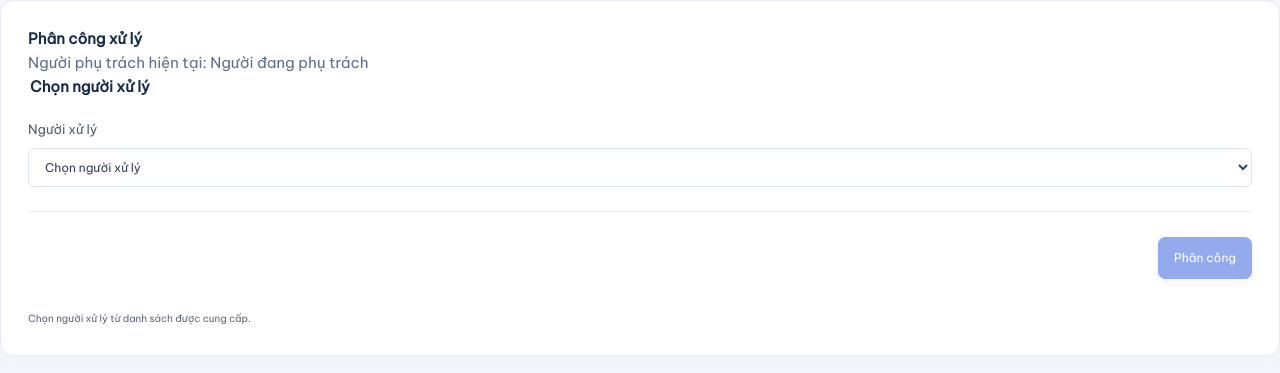
Scenario: APP-11 assignment selection and single write › blocks duplicate submit while pending and never replaces authoritative assignee on success
Later steps or results of the test are not shown.
Select "Nguyễn An" in the dropdown: [640, 168] box [28,148,1252,187]
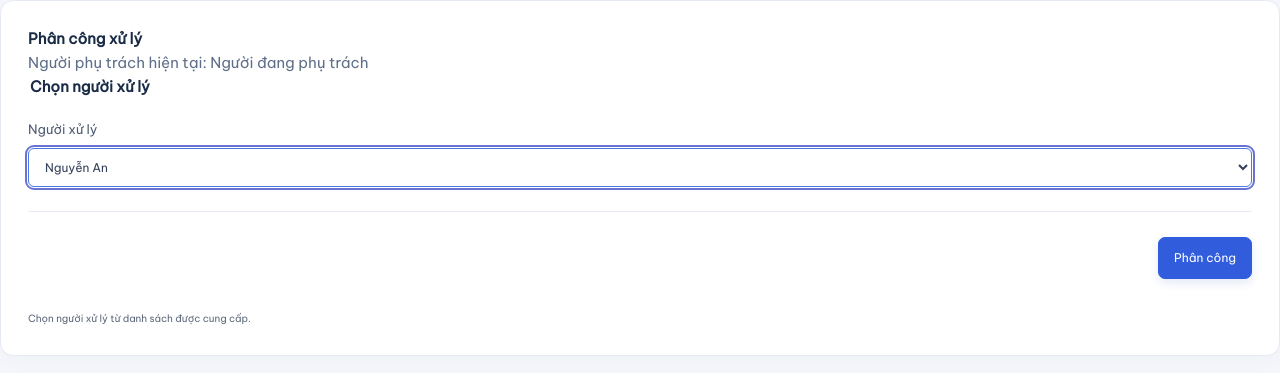
Double-click the button "Phân công": [1205, 258] box [1158,237,1252,279]
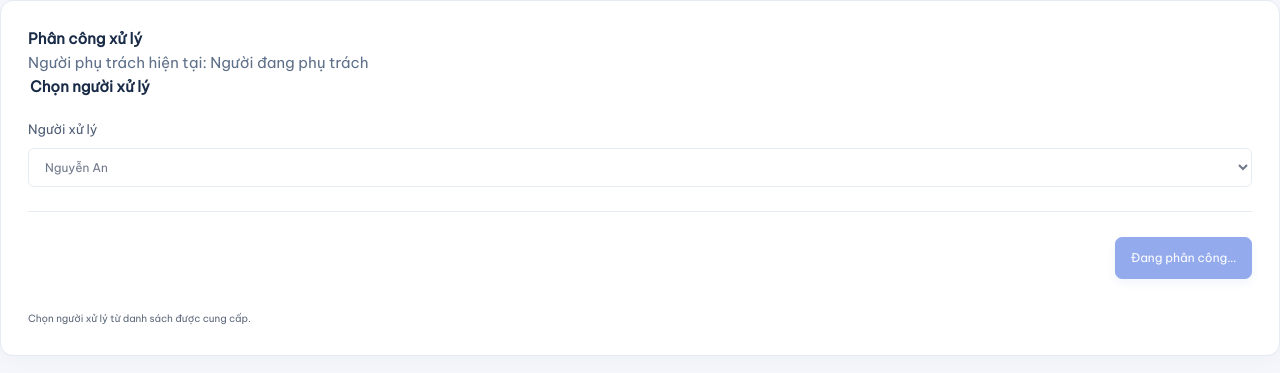
Submit the form
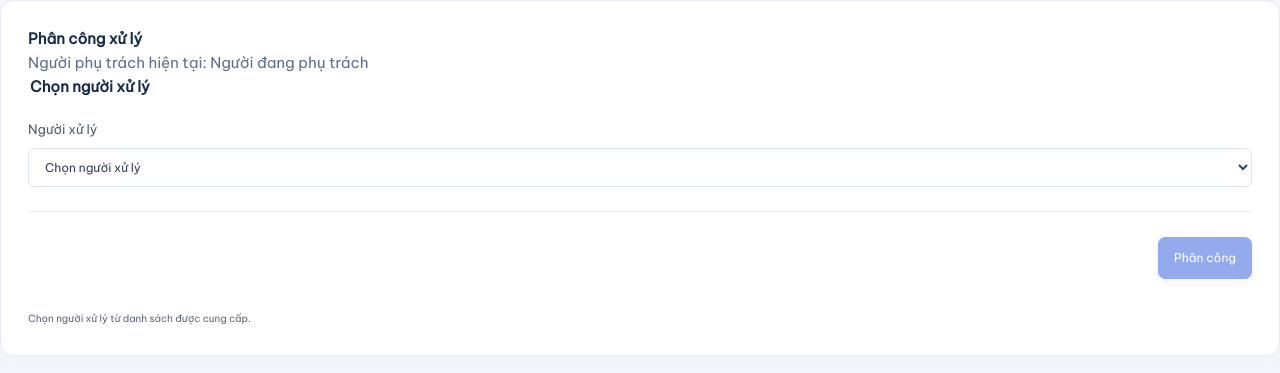
Expected: the text "Người đang phụ trách" is shown, [210,52,368,72]
Result: the button named "Đang phân công…" is disabled at [1158,237,1252,279]
